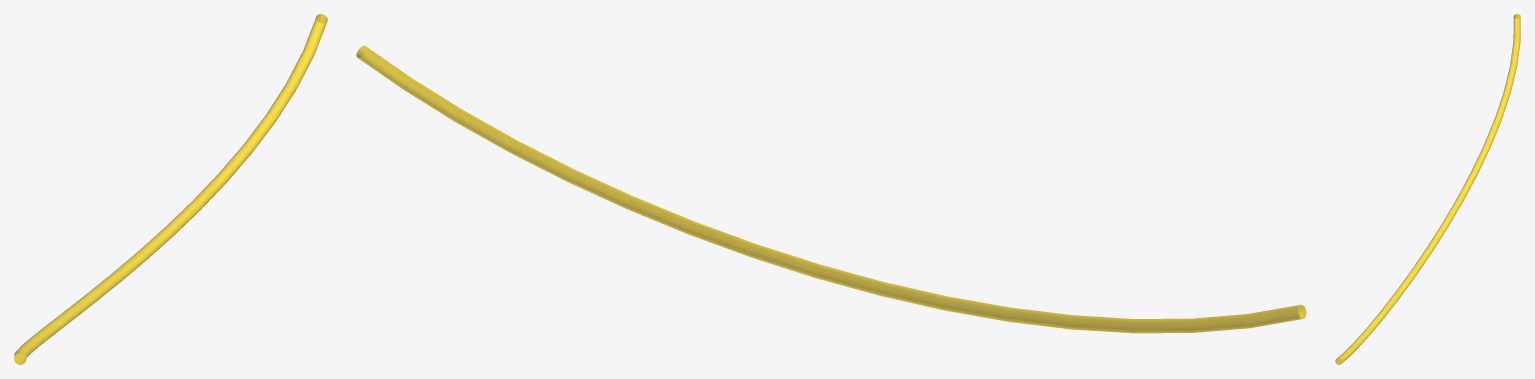
File: Event_17758602_track_95.fbx
3 views of the same model, side by side, from view 1: azimuth 90°, elevation 25°; view 2: azimuth 150°, elevation 25°; view 3: azimuth 270°, elevation 25° (orthographic). The views are drawn at different scales.
Visible parts, largest first — view 1: Model; view 2: Model; view 3: Model.
Part boxes in pixels (x1,y1,x2,y2): Model: [14, 14, 327, 364]; Model: [356, 45, 1306, 333]; Model: [1335, 14, 1520, 364].
Bounding box in the file's own units: 3.59 × 0.5698 × 1.03.
